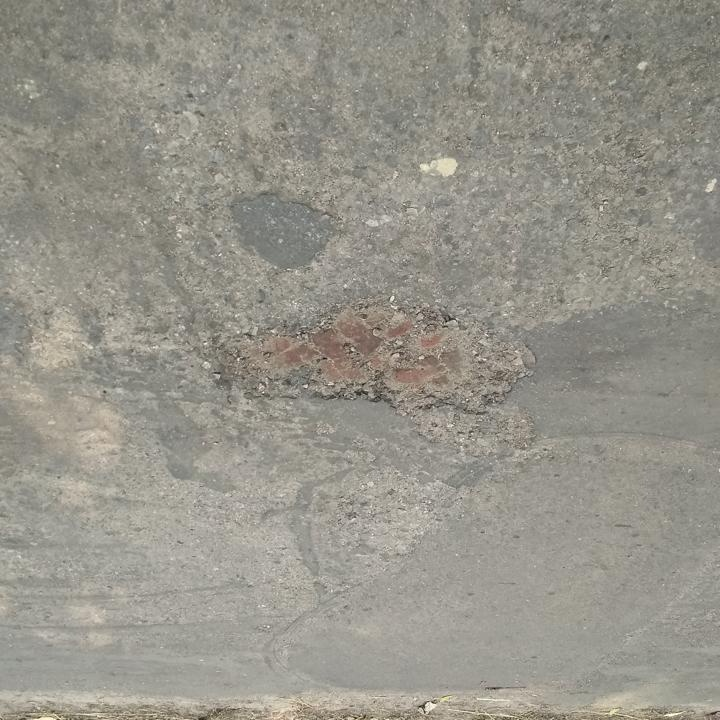pothole: (211, 294, 541, 416)
